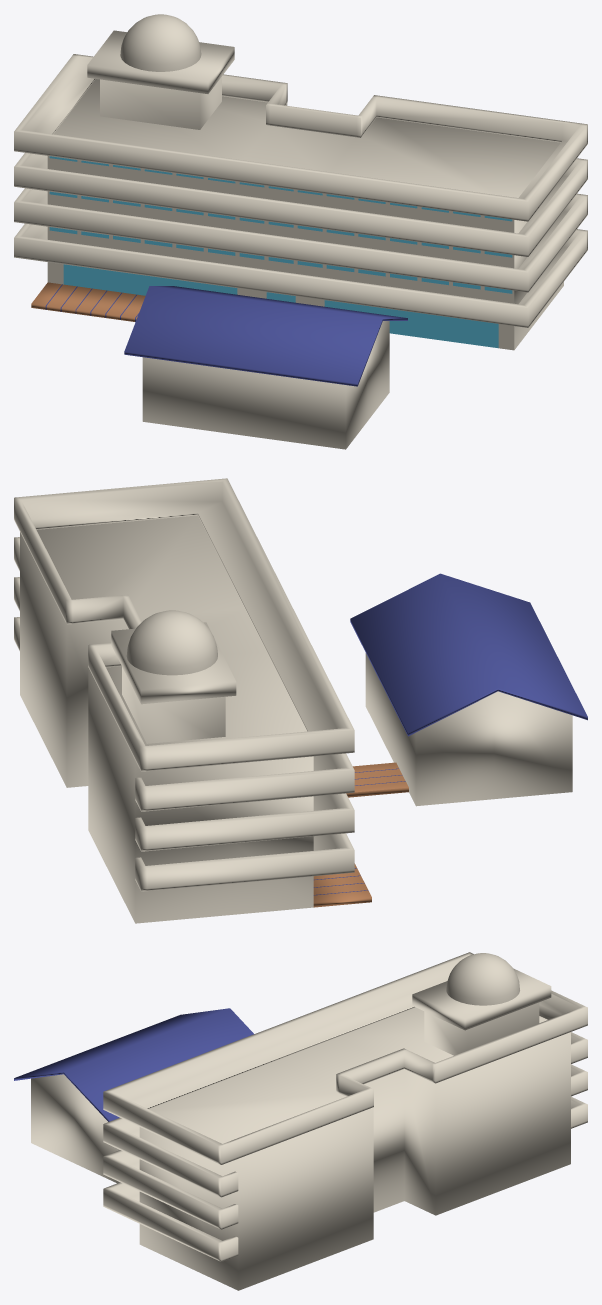
The model's file is 080_HOME.glb.
3 views of the same model, one above another, from view 1: azimuth 30°, elevation 25°; view 2: azimuth 150°, elevation 25°; view 3: azimuth 270°, elevation 25° (orthographic). The views are drawn at different scales.
Parts seen in each view (by area): view 1: 立方体024, 立方体024_1, 立方体024_3, 立方体024_2; view 2: 立方体024, 立方体024_1, 立方体024_2; view 3: 立方体024, 立方体024_1.
Part boxes in pixels (x1,y1,x2,y2): 立方体024: (14,14,587,449); 立方体024_1: (45,284,407,386); 立方体024_3: (49,156,512,348); 立方体024_2: (31,282,145,321); 立方体024: (14,478,572,923); 立方体024_1: (313,573,587,895); 立方体024_2: (313,762,408,907); 立方体024: (31,952,587,1290); 立方体024_1: (14,1008,253,1121).
Size of the model in its own units: 13.81 by 6.38 by 15.46.
